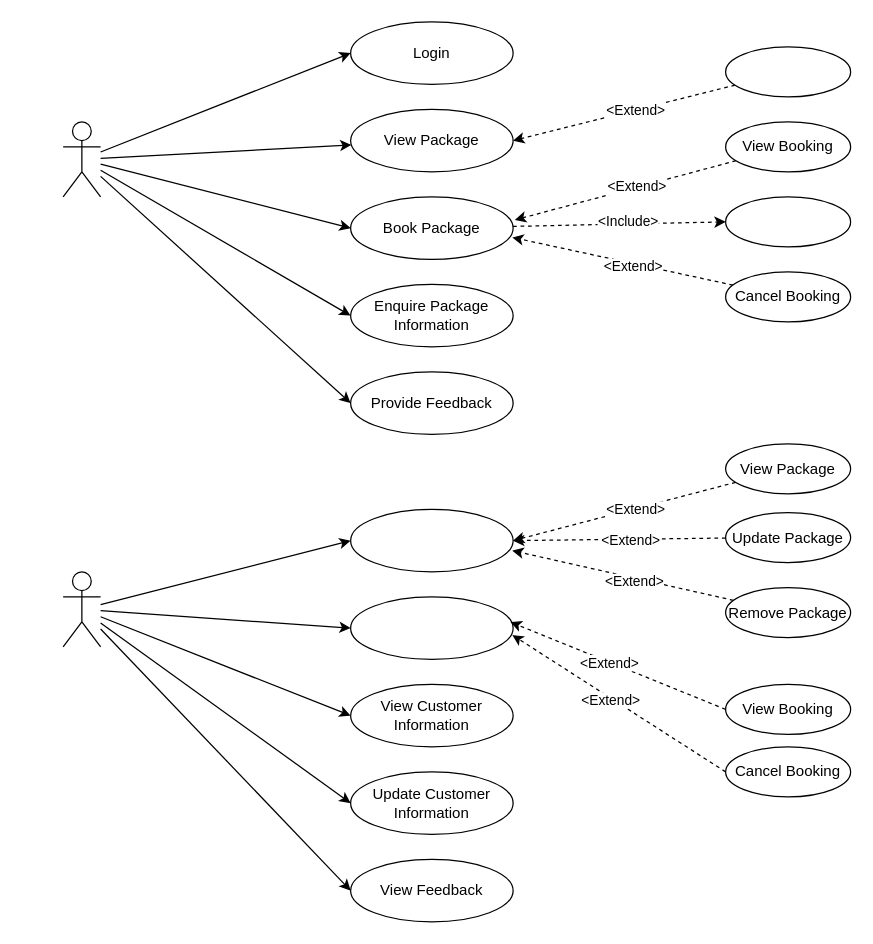
Some shapes in this 873 by 944 pixel diagram are drawn without their labels. The shapes that lost their labels are listed below. From the top down, each one's centre as x and y in pixels, then its label:
[787,71]: Customize package
[81,159]: Tourist
[787,221]: Booking Confirmation
[431,540]: Create Packages
[81,609]: Organization Staff
[431,627]: Book Packages
